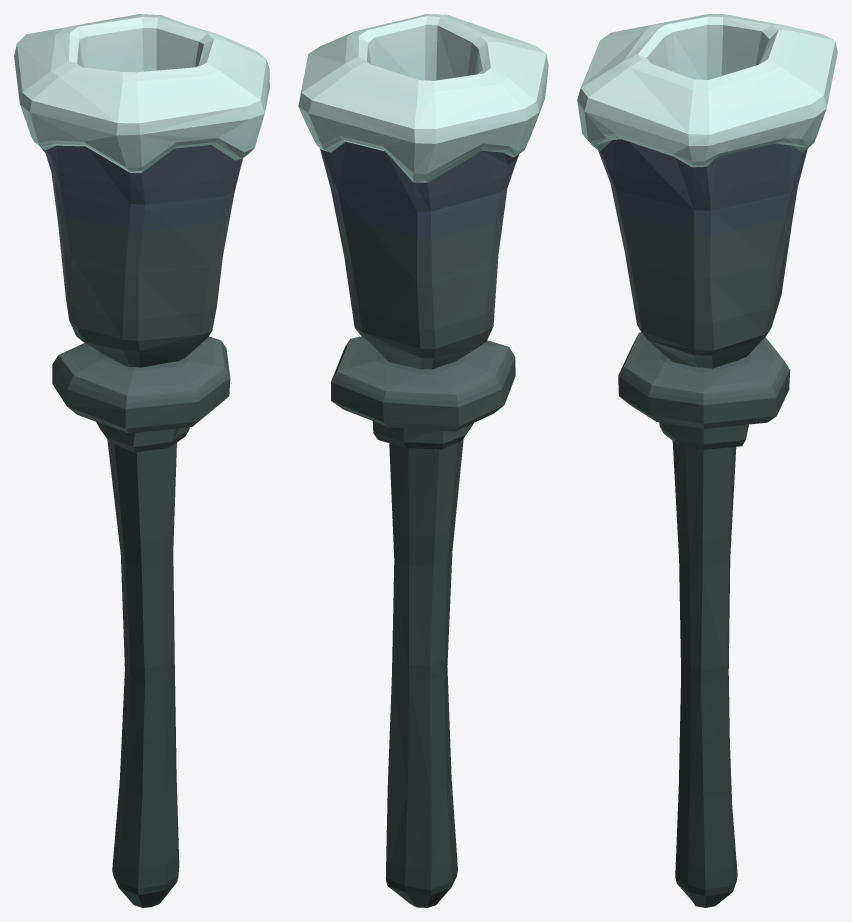
Rendered from CharSkyKid_Prop_CompetitionTorch.glb.
The picture shows the model from 3 angles, left to right: view 1: azimuth 30°, elevation 25°; view 2: azimuth 150°, elevation 25°; view 3: azimuth 270°, elevation 25°; orthographic projection.
Parts seen in each view (by area): view 1: CharSkyKid_Prop_CompetitionTorch; view 2: CharSkyKid_Prop_CompetitionTorch; view 3: CharSkyKid_Prop_CompetitionTorch.
Part boxes in pixels (left/top/right/bottom): CharSkyKid_Prop_CompetitionTorch: left=14, top=14, right=269, bottom=907; CharSkyKid_Prop_CompetitionTorch: left=298, top=14, right=548, bottom=907; CharSkyKid_Prop_CompetitionTorch: left=577, top=14, right=837, bottom=907.
Size of the model in its own units: 2.58 by 9.14 by 2.52.
Materials: 1 (1 with a texture image).
